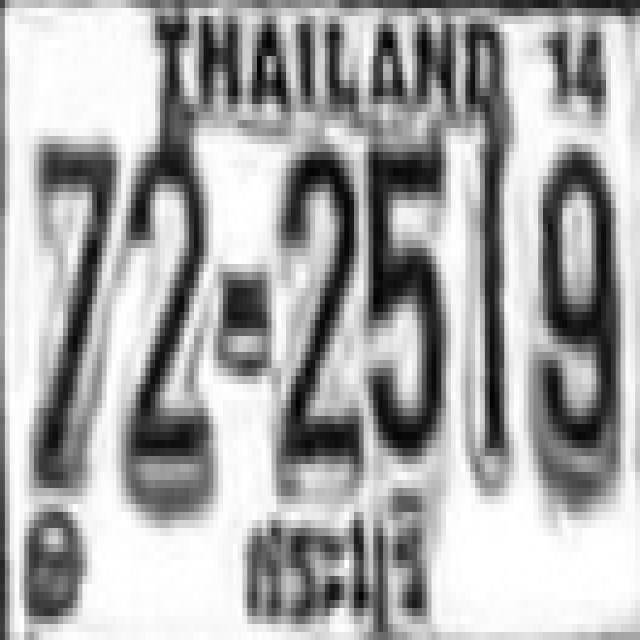2: (119, 136, 206, 456), (276, 144, 354, 464)
5: (364, 136, 441, 448)
7: (27, 128, 114, 472)
9: (524, 140, 616, 500)
SaraBuri: (226, 495, 443, 635)
